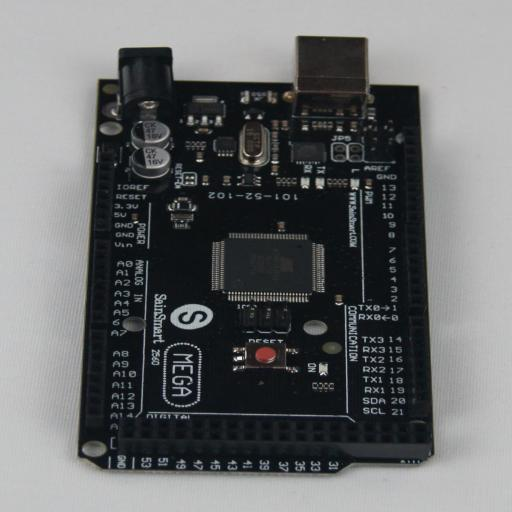Arduino Mega 2560 -Black-: (78, 36, 434, 474)
